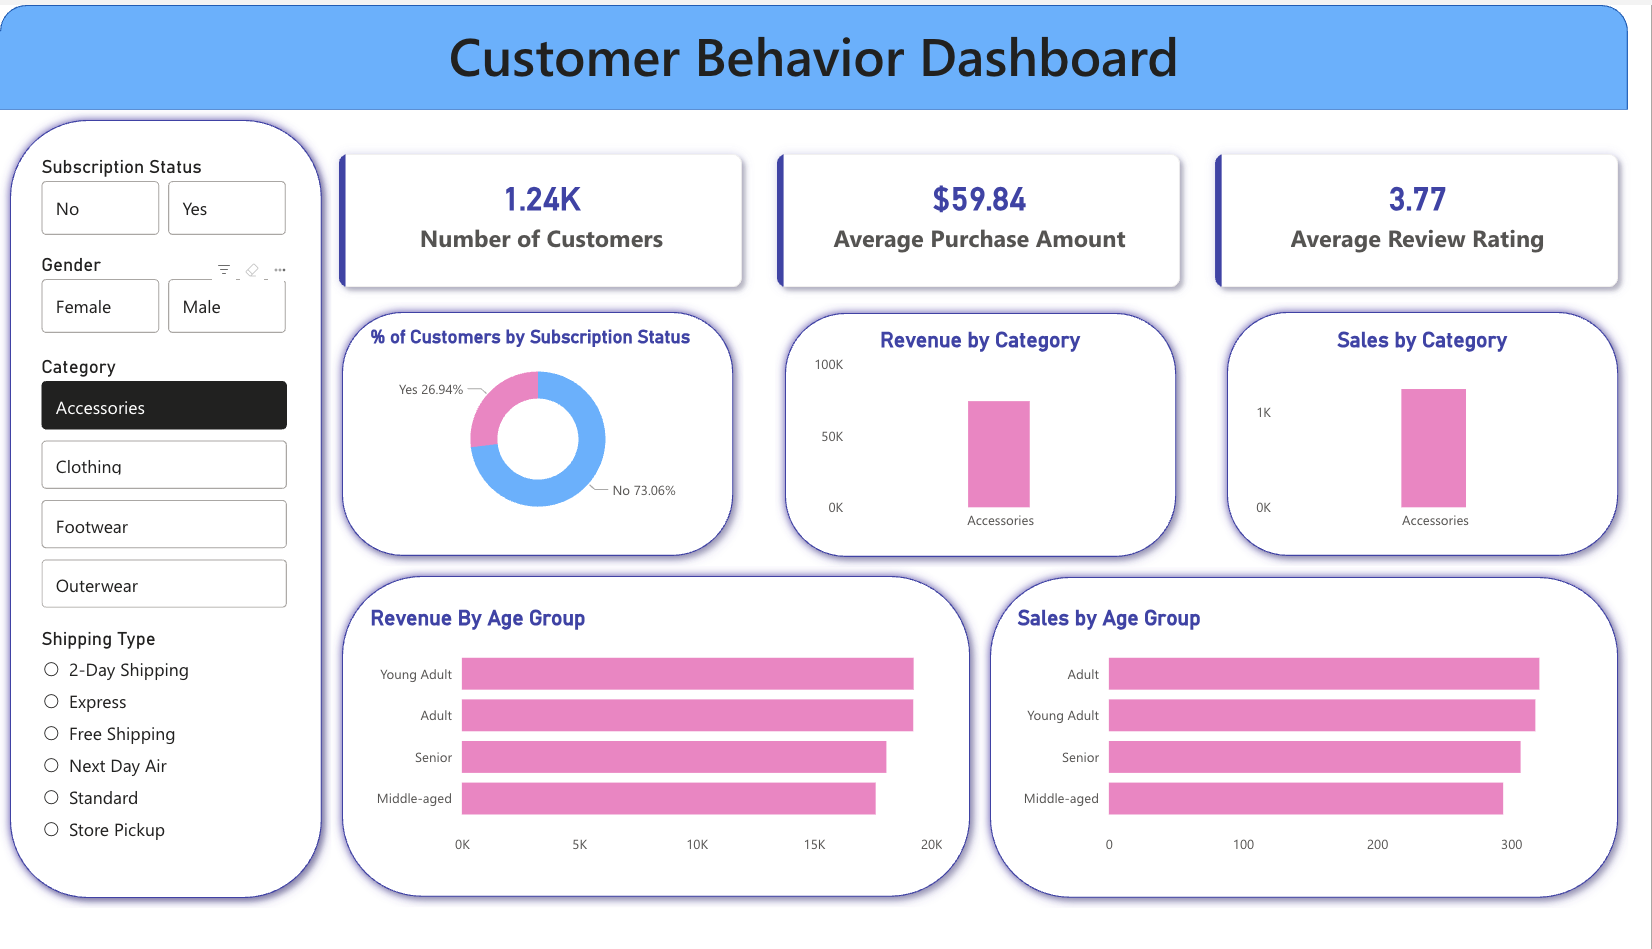

What the dashboard file says about the page in this screenshot:
{"tool":"powerbi","page":{"name":"Page 1","canvas":[1500,820],"ordinal":0},"visuals":[{"type":"cardVisual","fields":{"Data":["CountNonNull(customer_shopping_behavior 2.customer_id)","Avg(customer_shopping_behavior 2.purchase_amount)","Avg(customer_shopping_behavior 2.review_rating)"]},"box":[279.3,105.9,1220.7,179.2],"z":0},{"type":"shape","box":[0,0,1479.1,95.4],"z":1000},{"type":"textbox","box":[0,7,1479.1,81.5],"z":2000},{"type":"shape","box":[301.4,270,373.5,239.7],"z":3000},{"type":"donutChart","title":"% of Customers by Subscription Status","fields":{"Category":["customer_shopping_behavior 2.subscription_status"],"Y":["CountNonNull(customer_shopping_behavior 2.customer_id)"]},"box":[331.7,294.4,314.2,185],"z":4000},{"type":"shape","box":[1105.5,270,373.5,239.7],"z":5000},{"type":"shape","box":[704,271.1,373.5,239.7],"z":6000},{"type":"clusteredColumnChart","title":"Revenue by Category","fields":{"Y":["Sum(customer_shopping_behavior 2.purchase_amount)"],"Category":["customer_shopping_behavior 2.category"]},"box":[734.3,294.4,313,192],"z":7000},{"type":"clusteredColumnChart","title":"Sales by Category","fields":{"Category":["customer_shopping_behavior 2.category"],"Y":["CountNonNull(customer_shopping_behavior 2.customer_id)"]},"box":[1135.8,294.4,313,192],"z":8000},{"type":"shape","box":[0,95.4,301.4,725],"z":9000},{"type":"advancedSlicerVisual","title":"Subscription Status","fields":{"Values":["customer_shopping_behavior 2.subscription_status"]},"box":[32.6,139.6,233.9,74.5],"z":10000},{"type":"advancedSlicerVisual","title":"Gender","fields":{"Values":["customer_shopping_behavior 2.gender"]},"box":[32.6,229.2,233.9,74.5],"z":11000},{"type":"advancedSlicerVisual","title":"Category","fields":{"Values":["customer_shopping_behavior 2.category"]},"box":[32.6,321.2,233.9,233.9],"z":12000},{"type":"listSlicer","title":"Shipping Type","fields":{"Values":["customer_shopping_behavior 2.shipping_type"]},"box":[32.6,569,225.8,203.6],"z":13000},{"type":"shape","box":[890.2,510.9,588.8,309.5],"z":16000},{"type":"clusteredBarChart","title":"Sales  by Age Group","fields":{"Category":["customer_shopping_behavior 2.age_group"],"Y":["CountNonNull(customer_shopping_behavior 2.customer_id)"]},"box":[919.3,546.9,529.5,233.9],"z":17000},{"type":"shape","box":[301.4,509.7,588.8,309.5],"z":17001},{"type":"clusteredBarChart","title":"Revenue By Age Group","fields":{"Category":["customer_shopping_behavior 2.age_group"],"Y":["Sum(customer_shopping_behavior 2.purchase_amount)"]},"box":[331.7,546.9,529.5,233.9],"z":17002}]}

Visuals, with their boxes in screenshot pixels (x1, y1, x2, y2):
cardVisual - CountNonNull(customer_shopping_behavior 2.customer_id) x Avg(customer_shopping_behavior 2.purchase_amount): crop(312, 115, 1638, 310)
shape: crop(9, 0, 1615, 104)
textbox: crop(9, 8, 1615, 96)
shape: crop(336, 293, 742, 554)
"% of Customers by Subscription Status" donutChart: crop(369, 320, 710, 521)
shape: crop(1209, 293, 1615, 554)
shape: crop(773, 294, 1179, 555)
"Revenue by Category" clusteredColumnChart: crop(806, 320, 1146, 528)
"Sales by Category" clusteredColumnChart: crop(1242, 320, 1582, 528)
shape: crop(9, 104, 336, 891)
"Subscription Status" advancedSlicerVisual: crop(44, 152, 298, 233)
"Gender" advancedSlicerVisual: crop(44, 249, 298, 330)
"Category" advancedSlicerVisual: crop(44, 349, 298, 603)
"Shipping Type" listSlicer: crop(44, 618, 289, 839)
shape: crop(975, 555, 1615, 891)
"Sales  by Age Group" clusteredBarChart: crop(1007, 594, 1582, 848)
shape: crop(336, 554, 975, 890)
"Revenue By Age Group" clusteredBarChart: crop(369, 594, 944, 848)
